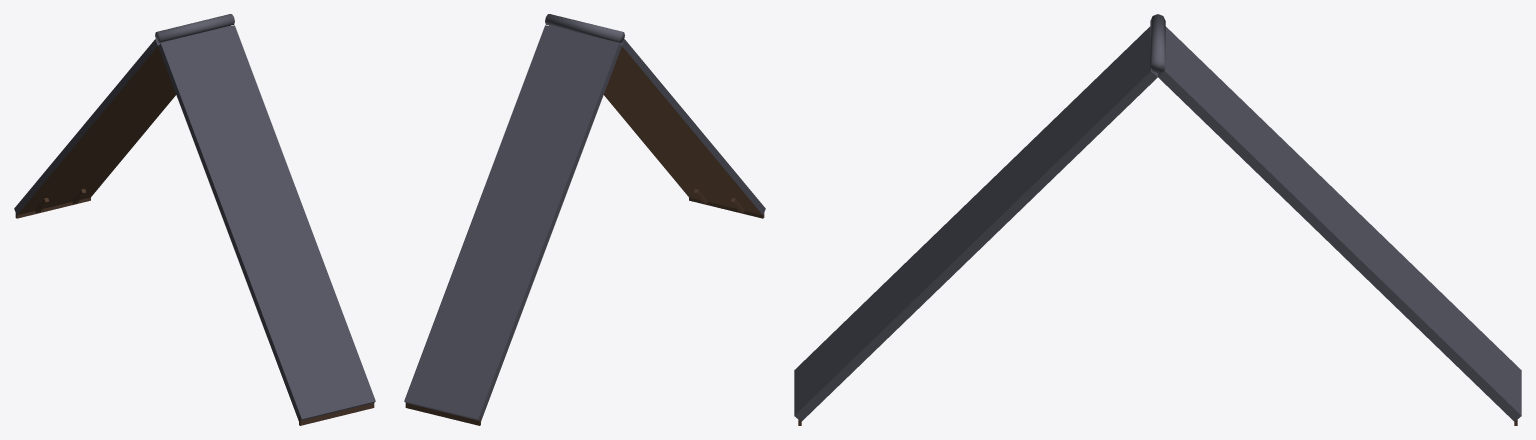
Rendered from kit_church_slate_w6.glb.
3 views of the same model, side by side, from view 1: azimuth 30°, elevation 25°; view 2: azimuth 150°, elevation 25°; view 3: azimuth 270°, elevation 25° (orthographic). The views are drawn at different scales.
Parts seen in each view (by area): view 1: kit_church_slate_w6; view 2: kit_church_slate_w6; view 3: kit_church_slate_w6.
Boxes of the visible parts, x1,y1,x2,y2 form: kit_church_slate_w6: [14, 14, 375, 425]; kit_church_slate_w6: [404, 14, 765, 425]; kit_church_slate_w6: [794, 14, 1521, 425].
Bounding box in the file's own units: 1 × 3.74 × 6.73.
